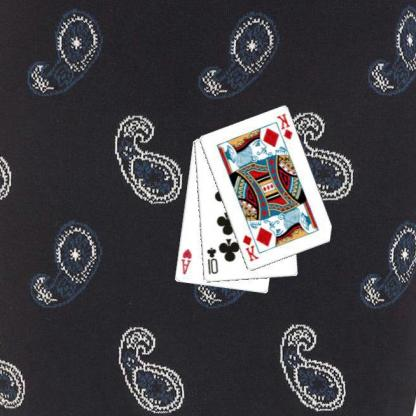10C: (205, 245, 221, 276)
AH: (180, 246, 195, 276)
KD: (275, 111, 296, 141), (242, 232, 262, 263)
